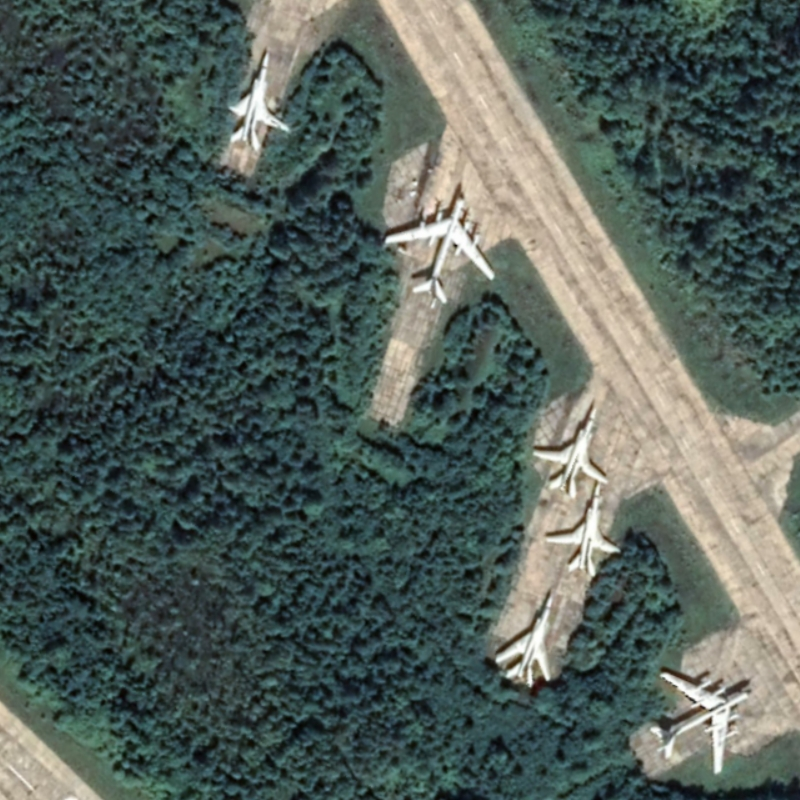A12: (528, 395, 612, 497), (542, 477, 622, 578), (220, 45, 293, 154), (489, 587, 557, 689)
A17: (382, 189, 496, 306), (650, 667, 755, 776)
